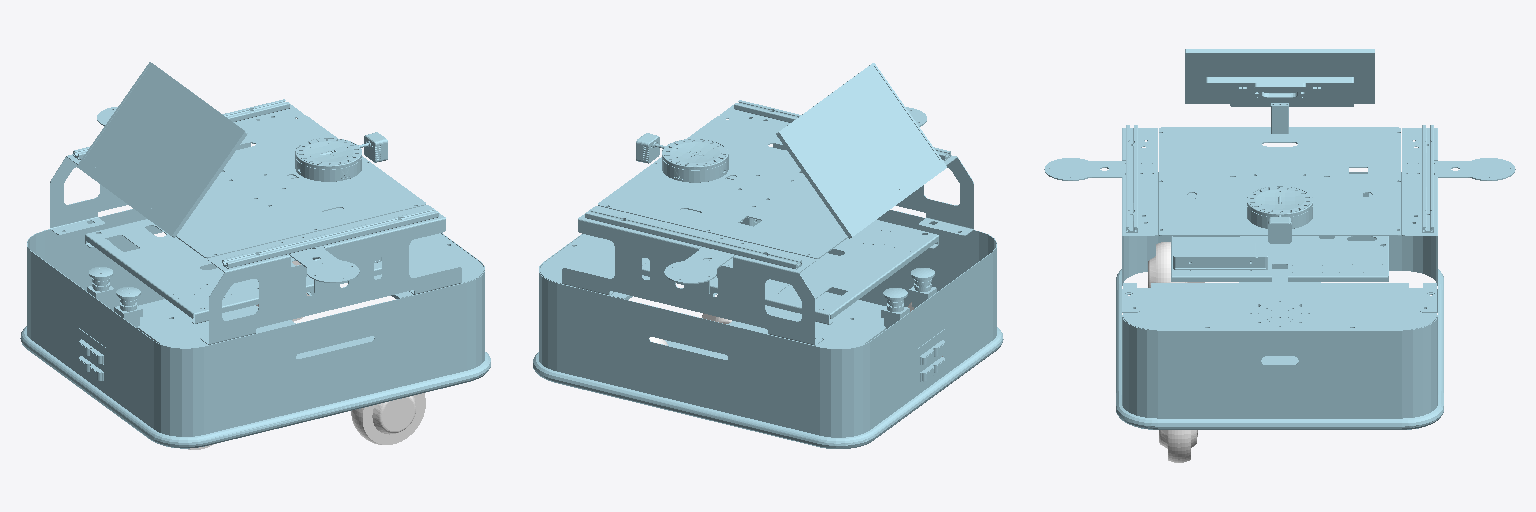
The robot description file, URDF, robot "lucsys_lsr550_4wd_premium_oscillating_axle_suspension":
<?xml version="1.0" encoding="utf-8"?>
<robot name="lucsys_lsr550_4wd_premium_oscillating_axle_suspension">
  <link name="base_link">
    <inertial>
      <origin xyz="-0.0446087958104558 0.00269481520496949 0.061341677182674" rpy="0 0 0" />
      <mass value="2.14965380626386" />
      <inertia ixx="0.00456533864041302" ixy="2.66483841196418E-05" ixz="-1.68910277144345E-06" iyy="0.00741917401925551" iyz="-5.24979552758434E-07" izz="0.0114787343272924" />
    </inertial>
    <visual>
      <origin xyz="0 0 0" rpy="0 0 0" />
      <geometry>
        <mesh filename="package://lucsys_lsr550_4wd_premium_oscillating_axle_suspension_description/meshes/lsr550_4wd_premium_oscillating_axle_suspension/base_link.STL" />
      </geometry>
      <material name="lucsys_material_0">
        <color rgba="0.741176470588235 0.901960784313726 0.956862745098039 1" />
      </material>
    </visual>
    <collision>
      <origin xyz="0 0 0" rpy="0 0 0" />
      <geometry>
        <mesh filename="package://lucsys_lsr550_4wd_premium_oscillating_axle_suspension_description/meshes/lsr550_4wd_premium_oscillating_axle_suspension/base_link.STL" />
      </geometry>
    </collision>
  </link>
  <link name="lf_wheel_link">
    <inertial>
      <origin xyz="-4.6620746205206E-07 -1.64222714538198E-07 -2.14743634679992E-09" rpy="0 0 0" />
      <mass value="0.700493347391114" />
      <inertia ixx="0.00126082592198867" ixy="4.29165992533056E-08" ixz="1.61999396410463E-08" iyy="0.00230181553925365" iyz="2.44665455605375E-08" izz="0.00126081885973785" />
    </inertial>
    <visual>
      <origin xyz="0 0 0" rpy="0 0 0" />
      <geometry>
        <mesh filename="package://lucsys_lsr550_4wd_premium_oscillating_axle_suspension_description/meshes/lsr550_4wd_premium_oscillating_axle_suspension/lf_wheel_link.STL" />
      </geometry>
      <material name="lucsys_material_1">
        <color rgba="1 1 1 1" />
      </material>
    </visual>
    <collision>
      <origin xyz="0 0 0" rpy="0 0 0" />
      <geometry>
        <mesh filename="package://lucsys_lsr550_4wd_premium_oscillating_axle_suspension_description/meshes/lsr550_4wd_premium_oscillating_axle_suspension/lf_wheel_link.STL" />
      </geometry>
    </collision>
  </link>
  <joint name="lf_wheel_joint" type="continuous">
    <origin xyz="0.155179518918731 0.16752320240713 0.025003" rpy="0 0 0" />
    <parent link="base_link" />
    <child link="lf_wheel_link" />
    <axis xyz="0 -1 0" />
  </joint>
  <link name="lb_wheel_link">
    <inertial>
      <origin xyz="-1.94702781119993E-07 -1.64220044479579E-07 4.61443023527797E-07" rpy="0 0 0" />
      <mass value="0.700493347391115" />
      <inertia ixx="0.00126082905128089" ixy="4.51323752033432E-08" ixz="1.51837323476689E-08" iyy="0.00230181553925365" iyz="2.00876840782324E-08" izz="0.00126081573044563" />
    </inertial>
    <visual>
      <origin xyz="0 0 0" rpy="0 0 0" />
      <geometry>
        <mesh filename="package://lucsys_lsr550_4wd_premium_oscillating_axle_suspension_description/meshes/lsr550_4wd_premium_oscillating_axle_suspension/lb_wheel_link.STL" />
      </geometry>
      <material name="lucsys_material_2">
        <color rgba="1 1 1 1" />
      </material>
    </visual>
    <collision>
      <origin xyz="0 0 0" rpy="0 0 0" />
      <geometry>
        <mesh filename="package://lucsys_lsr550_4wd_premium_oscillating_axle_suspension_description/meshes/lsr550_4wd_premium_oscillating_axle_suspension/lb_wheel_link.STL" />
      </geometry>
    </collision>
  </link>
  <joint name="lb_wheel_joint" type="continuous">
    <origin xyz="-0.157520481081269 0.167223202407132 0.024002" rpy="0 0 0" />
    <parent link="base_link" />
    <child link="lb_wheel_link" />
    <axis xyz="0 -1 0" />
  </joint>
  <link name="rb_wheel_link">
    <inertial>
      <origin xyz="-4.33820751405412E-07 1.64220044451824E-07 -4.49810529101757E-08" rpy="0 0 0" />
      <mass value="0.700493347391114" />
      <inertia ixx="0.00126080622456788" ixy="-2.36929272773458E-09" ixz="3.68208968939547E-09" iyy="0.00230181553925365" iyz="4.93440249161481E-08" izz="0.00126083855715865" />
    </inertial>
    <visual>
      <origin xyz="0 0 0" rpy="0 0 0" />
      <geometry>
        <mesh filename="package://lucsys_lsr550_4wd_premium_oscillating_axle_suspension_description/meshes/lsr550_4wd_premium_oscillating_axle_suspension/rb_wheel_link.STL" />
      </geometry>
      <material name="lucsys_material_3">
        <color rgba="1 1 1 1" />
      </material>
    </visual>
    <collision>
      <origin xyz="0 0 0" rpy="0 0 0" />
      <geometry>
        <mesh filename="package://lucsys_lsr550_4wd_premium_oscillating_axle_suspension_description/meshes/lsr550_4wd_premium_oscillating_axle_suspension/rb_wheel_link.STL" />
      </geometry>
    </collision>
  </link>
  <joint name="rb_wheel_joint" type="continuous">
    <origin xyz="-0.15752548108127 -0.165888797592868 0.023994" rpy="0 0 0" />
    <parent link="base_link" />
    <child link="rb_wheel_link" />
    <axis xyz="0 1 0" />
  </joint>
  <link name="rf_wheel_link">
    <inertial>
      <origin xyz="1.64523701495778E-07 1.64222714454931E-07 1.35831159653321E-08" rpy="0 0 0" />
      <mass value="0.700493347391115" />
      <inertia ixx="0.00126080581580217" ixy="-7.25345811553059E-09" ixz="4.17421610011383E-10" iyy="0.00230181553925365" iyz="4.88654651917594E-08" izz="0.00126083896592436" />
    </inertial>
    <visual>
      <origin xyz="0 0 0" rpy="0 0 0" />
      <geometry>
        <mesh filename="package://lucsys_lsr550_4wd_premium_oscillating_axle_suspension_description/meshes/lsr550_4wd_premium_oscillating_axle_suspension/rf_wheel_link.STL" />
      </geometry>
      <material name="lucsys_material_4">
        <color rgba="1 1 1 1" />
      </material>
    </visual>
    <collision>
      <origin xyz="0 0 0" rpy="0 0 0" />
      <geometry>
        <mesh filename="package://lucsys_lsr550_4wd_premium_oscillating_axle_suspension_description/meshes/lsr550_4wd_premium_oscillating_axle_suspension/rf_wheel_link.STL" />
      </geometry>
    </collision>
  </link>
  <joint name="rf_wheel_joint" type="continuous">
    <origin xyz="0.15517451891873 -0.16618879759287 0.024994" rpy="0 0 0" />
    <parent link="base_link" />
    <child link="rf_wheel_link" />
    <axis xyz="0 1 0" />
  </joint>
  <link name="camera_link">
    <inertial>
      <origin xyz="3.37966248653565E-07 -3.4861597831972E-07 1.07624234874787E-07" rpy="0 0 0" />
      <mass value="0.0559842512080113" />
      <inertia ixx="0.000130810959339214" ixy="1.20255128206175E-07" ixz="1.62335437080103E-06" iyy="1.91148634967895E-05" iyz="-2.80016755800559E-08" izz="0.000131387469523027" />
    </inertial>
    <visual>
      <origin xyz="0 0 0" rpy="0 0 0" />
      <geometry>
        <mesh filename="package://lucsys_lsr550_4wd_premium_oscillating_axle_suspension_description/meshes/lsr550_4wd_premium_oscillating_axle_suspension/camera_link.STL" />
      </geometry>
      <material name="lucsys_material_5">
        <color rgba="1 1 1 1" />
      </material>
    </visual>
    <collision>
      <origin xyz="0 0 0" rpy="0 0 0" />
      <geometry>
        <mesh filename="package://lucsys_lsr550_4wd_premium_oscillating_axle_suspension_description/meshes/lsr550_4wd_premium_oscillating_axle_suspension/camera_link.STL" />
      </geometry>
    </collision>
  </link>
  <joint name="camera_joint" type="fixed">
    <origin xyz="0.16083451891873 0.000745202407130424 0.089704" rpy="0 0 0" />
    <parent link="base_link" />
    <child link="camera_link" />
    <axis xyz="0 0 0" />
  </joint>
  <link name="laser_link">
    <inertial>
      <origin xyz="0.00239460672191773 -4.3623587241963E-06 0.00454035676176797" rpy="0 0 0" />
      <mass value="0.0391766918354982" />
      <inertia ixx="2.82296075716262E-05" ixy="-2.19900342511061E-09" ixz="1.07118438626957E-06" iyy="3.37984497856379E-05" iyz="6.83963624112367E-10" izz="4.50920076524856E-05" />
    </inertial>
    <visual>
      <origin xyz="0 0 0" rpy="0 0 0" />
      <geometry>
        <mesh filename="package://lucsys_lsr550_4wd_premium_oscillating_axle_suspension_description/meshes/lsr550_4wd_premium_oscillating_axle_suspension/laser.STL" />
      </geometry>
      <material name="lucsys_material_6">
        <color rgba="0.376470588235294 0.376470588235294 0.376470588235294 1" />
      </material>
    </visual>
    <collision>
      <origin xyz="0 0 0" rpy="0 0 0" />
      <geometry>
        <mesh filename="package://lucsys_lsr550_4wd_premium_oscillating_axle_suspension_description/meshes/lsr550_4wd_premium_oscillating_axle_suspension/laser.STL" />
      </geometry>
    </collision>
  </link>
  <joint name="laser_joint" type="fixed">
    <origin xyz="0.0911278646206001 0.000667202405493635 0.11102418374143" rpy="0 0 3.14159265358979" />
    <parent link="base_link" />
    <child link="laser_link" />
    <axis xyz="0 0 0" />
  </joint>
  <link name="controller_link">
    <inertial>
      <origin xyz="-0.0345544164547887 0.0884587575058604 -0.00475090869119181" rpy="0 0 0" />
      <mass value="0.00500280353665619" />
      <inertia ixx="5.5683668655799E-07" ixy="-4.85741212386724E-14" ixz="-5.07877537956953E-15" iyy="9.83824150757691E-08" iyz="3.20815042510472E-14" izz="6.06554886179191E-07" />
    </inertial>
    <visual>
      <origin xyz="0 0 0" rpy="0 0 0" />
      <geometry>
        <mesh filename="package://lucsys_lsr550_4wd_premium_oscillating_axle_suspension_description/meshes/lsr550_4wd_premium_oscillating_axle_suspension/controller_link.STL" />
      </geometry>
      <material name="lucsys_material_7">
        <color rgba="0.741176470588235 0.901960784313726 0.956862745098039 1" />
      </material>
    </visual>
    <collision>
      <origin xyz="0 0 0" rpy="0 0 0" />
      <geometry>
        <mesh filename="package://lucsys_lsr550_4wd_premium_oscillating_axle_suspension_description/meshes/lsr550_4wd_premium_oscillating_axle_suspension/controller_link.STL" />
      </geometry>
    </collision>
  </link>
  <joint name="controller_joint" type="fixed">
    <origin xyz="-0.072154314146756 -0.0796936307243407 0.155" rpy="0 0 0" />
    <parent link="base_link" />
    <child link="controller_link" />
    <axis xyz="0 0 0" />
  </joint>
</robot>

--- Render facts (derived) ---
The picture shows the robot from 3 angles, left to right: view 1: azimuth 30°, elevation 25°; view 2: azimuth 150°, elevation 25°; view 3: azimuth 270°, elevation 25°; orthographic projection.
Robot: lucsys_lsr550_4wd_premium_oscillating_axle_suspension — 8 links, 7 joints (4 continuous, 3 fixed); root link base_link; default pose: all joints at 0.
Links seen in each view (by area): view 1: base_link, rf_wheel_link; view 2: base_link; view 3: base_link, rf_wheel_link, rb_wheel_link.
Boxes of the visible links, bbox=[...] form: base_link: bbox=[20, 62, 490, 448]; rf_wheel_link: bbox=[351, 393, 425, 444]; base_link: bbox=[533, 63, 1003, 448]; base_link: bbox=[1044, 49, 1515, 429]; rf_wheel_link: bbox=[1159, 430, 1197, 462]; rb_wheel_link: bbox=[1148, 242, 1204, 287].
Bounding box of the posed robot: 0.64 × 0.7764 × 0.6224 m (x, y, z).
4 mesh visuals loaded from 8 distinct referenced files (4 binary STL); not drawn: 4 (reference not matched to a file when rendering).
